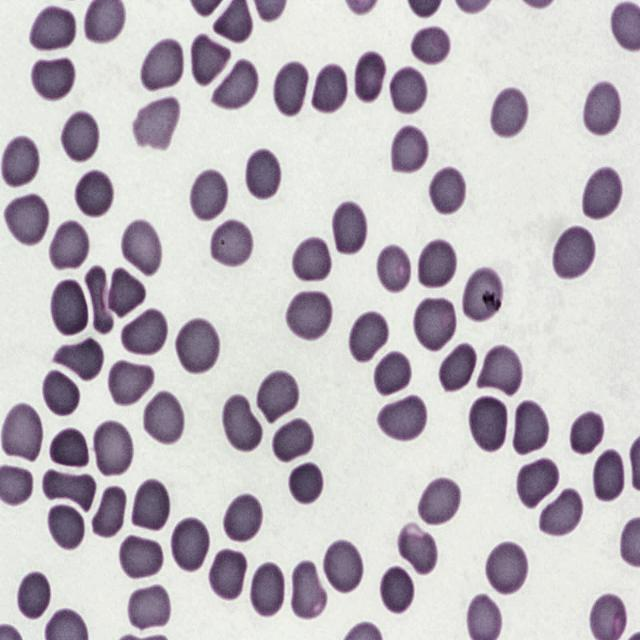red blood cell: (173, 315, 220, 378), (132, 92, 181, 152), (0, 401, 43, 465), (39, 469, 100, 514), (412, 295, 457, 355), (535, 484, 584, 539), (284, 289, 333, 344), (220, 392, 262, 455), (3, 188, 50, 244), (395, 519, 440, 576), (91, 418, 133, 479), (467, 394, 509, 455), (142, 390, 186, 448), (119, 307, 168, 359), (376, 394, 428, 443), (28, 53, 80, 102), (120, 217, 162, 277), (140, 37, 184, 94), (48, 277, 89, 338), (126, 582, 174, 634), (168, 514, 210, 573), (551, 222, 595, 278), (485, 540, 528, 597), (28, 4, 76, 55), (476, 345, 522, 398), (47, 218, 90, 274), (188, 32, 231, 88), (208, 217, 254, 269), (256, 370, 300, 424), (289, 558, 326, 622), (212, 59, 258, 110), (581, 166, 622, 223), (464, 268, 504, 326), (116, 534, 165, 581), (107, 360, 154, 409), (416, 478, 462, 528), (270, 416, 316, 466), (322, 538, 363, 594), (188, 168, 229, 224), (437, 339, 478, 395), (206, 548, 246, 605), (583, 80, 622, 138), (272, 59, 310, 118), (130, 478, 171, 532), (104, 266, 146, 318), (511, 398, 548, 457), (348, 311, 389, 364), (222, 492, 262, 546), (60, 110, 100, 164), (488, 85, 528, 139), (0, 134, 40, 188), (290, 233, 332, 284), (51, 338, 102, 380), (90, 483, 128, 539), (352, 48, 388, 106), (519, 460, 561, 509), (417, 240, 457, 291), (40, 368, 80, 419), (330, 200, 368, 253), (390, 123, 428, 176), (85, 266, 114, 335), (388, 64, 426, 116), (428, 165, 466, 217), (244, 147, 281, 200), (46, 502, 85, 552), (590, 448, 626, 502), (74, 169, 112, 220), (375, 244, 413, 295), (48, 424, 89, 471), (373, 350, 412, 399), (409, 25, 452, 69), (250, 562, 285, 616), (312, 64, 348, 115), (16, 570, 52, 621), (379, 564, 414, 616), (569, 408, 605, 457), (288, 463, 324, 508)
